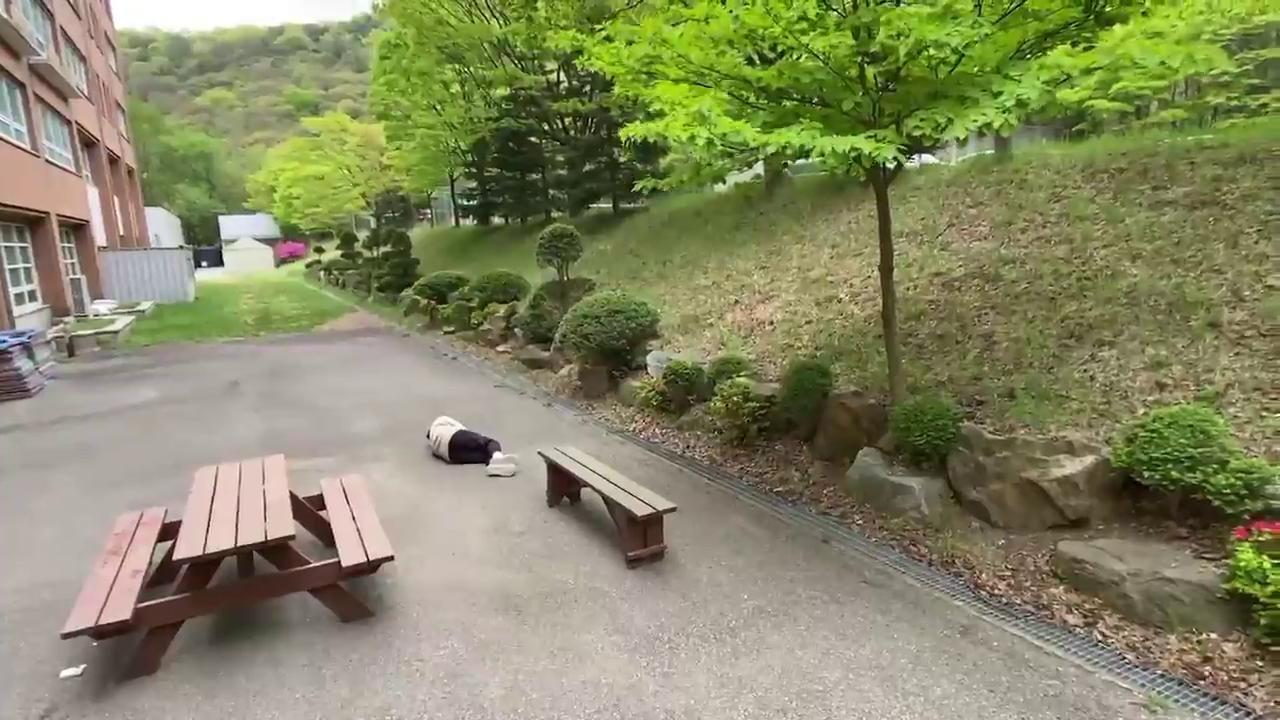faint: (423, 412, 525, 480)
